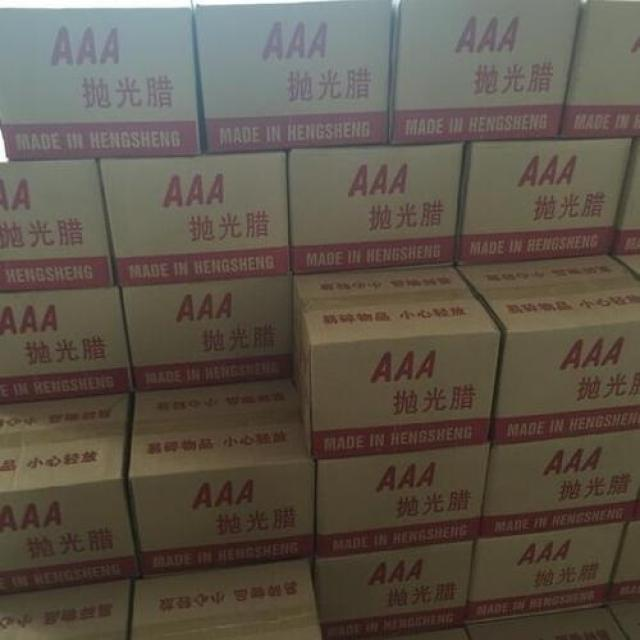box: (293, 265, 503, 456), (125, 379, 316, 579), (461, 254, 639, 446), (0, 5, 203, 162), (196, 4, 394, 152), (0, 393, 139, 596), (100, 150, 296, 290), (393, 1, 583, 142), (283, 142, 465, 274), (459, 137, 635, 266), (122, 274, 296, 394), (312, 444, 495, 554), (479, 430, 639, 542), (471, 520, 631, 628), (0, 285, 137, 411), (0, 156, 115, 298), (317, 537, 479, 637), (129, 557, 324, 639), (562, 1, 639, 139), (1, 575, 137, 638), (615, 142, 639, 257), (611, 519, 639, 601), (617, 252, 638, 275)
